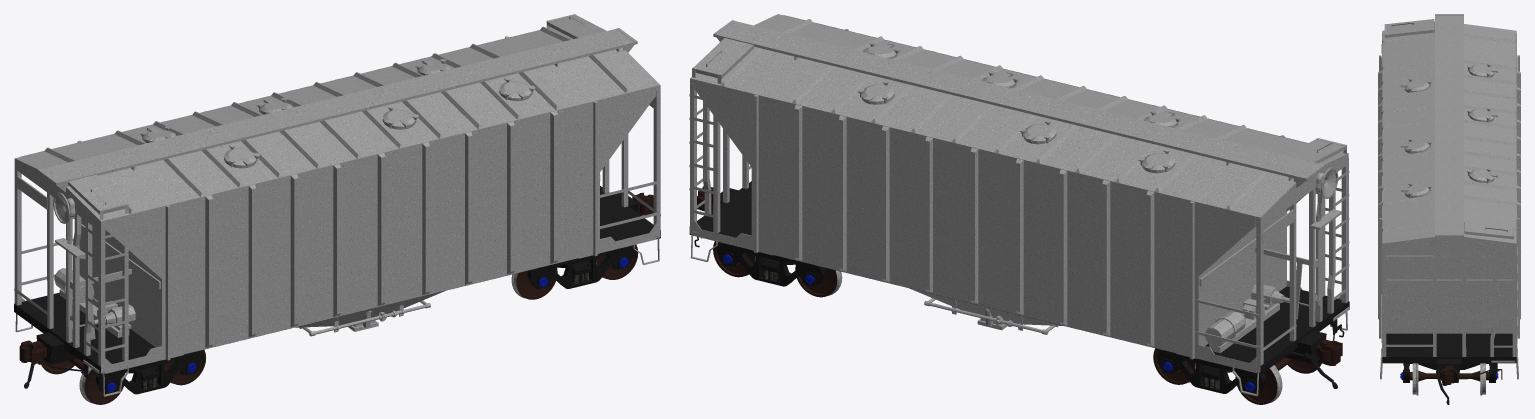
The model's file is 70t_hopper_slsf.obj.
The picture shows the model from 3 angles, left to right: view 1: azimuth 30°, elevation 25°; view 2: azimuth 150°, elevation 25°; view 3: azimuth 270°, elevation 25°; orthographic projection. The views are drawn at different scales.
Parts seen in each view (by area): view 1: SHELL_2_Main.001, FRAME_Main, BOGEY_REAR_Bogie2.001, BOGEY_FRONT_Bogie2, SHELL_1_Main.003, BOGEY_FRONT_WHEEL_2_Cylinder.004, BOGEY_REAR_WHEEL_2_Cylinder.001, BACK_COUPLER_Cube.003; view 2: SHELL_2_Main.001, FRAME_Main, BOGEY_REAR_Bogie2.001, SHELL_1_Main.003, BOGEY_FRONT_Bogie2, BOGEY_FRONT_WHEEL_2_Cylinder.004, BOGEY_REAR_WHEEL_2_Cylinder.001, BACK_COUPLER_Cube.003; view 3: SHELL_2_Main.001, FRAME_Main, BOGEY_REAR_WHEEL_1_Cylinder.005, BOGEY_REAR_Bogie2.001, FRONT_COUPLER_Cube.007, SHELL_1_Main.003.
Part boxes in pixels (bbox=[...]): SHELL_2_Main.001: bbox=[14, 14, 660, 373]; FRAME_Main: bbox=[14, 186, 660, 396]; BOGEY_REAR_Bogie2.001: bbox=[527, 246, 634, 289]; BOGEY_FRONT_Bogie2: bbox=[95, 351, 202, 394]; SHELL_1_Main.003: bbox=[24, 212, 642, 388]; BOGEY_FRONT_WHEEL_2_Cylinder.004: bbox=[41, 358, 125, 404]; BOGEY_REAR_WHEEL_2_Cylinder.001: bbox=[511, 268, 557, 299]; BACK_COUPLER_Cube.003: bbox=[19, 340, 46, 364]; SHELL_2_Main.001: bbox=[689, 14, 1349, 372]; FRAME_Main: bbox=[689, 181, 1349, 396]; BOGEY_REAR_Bogie2.001: bbox=[716, 242, 825, 286]; SHELL_1_Main.003: bbox=[701, 238, 1349, 388]; BOGEY_FRONT_Bogie2: bbox=[1157, 350, 1266, 393]; BOGEY_FRONT_WHEEL_2_Cylinder.004: bbox=[1235, 357, 1321, 404]; BOGEY_REAR_WHEEL_2_Cylinder.001: bbox=[795, 265, 842, 297]; BACK_COUPLER_Cube.003: bbox=[1315, 339, 1342, 365]; SHELL_2_Main.001: bbox=[1378, 14, 1520, 361]; FRAME_Main: bbox=[1380, 333, 1518, 379]; BOGEY_REAR_WHEEL_1_Cylinder.005: bbox=[1400, 363, 1498, 395]; BOGEY_REAR_Bogie2.001: bbox=[1403, 363, 1495, 382]; FRONT_COUPLER_Cube.007: bbox=[1440, 365, 1458, 385]; SHELL_1_Main.003: bbox=[1436, 360, 1515, 404].
Bounding box in the file's own units: 12.5 × 4.18 × 3.15.
Materials: 7 (7 with a texture image).
